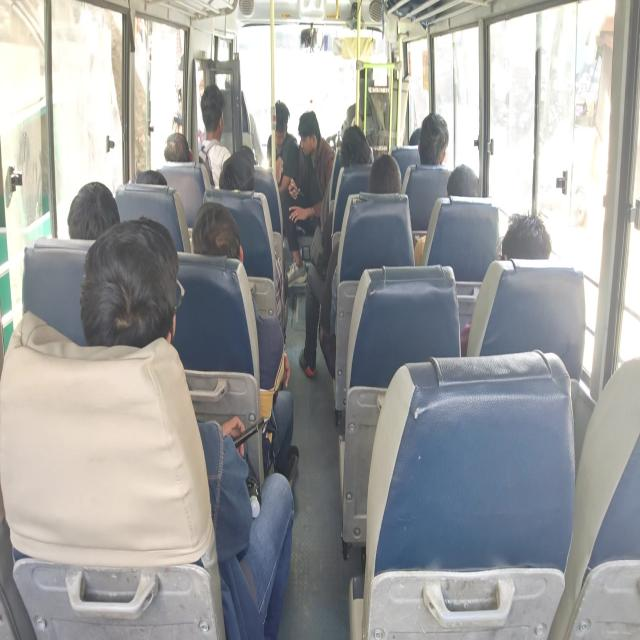person: (79, 216, 295, 638), (191, 200, 299, 488), (318, 153, 403, 378), (299, 124, 373, 377), (460, 211, 551, 355), (284, 110, 335, 286), (414, 163, 479, 265), (198, 84, 231, 188), (67, 181, 120, 240), (266, 99, 299, 193), (501, 211, 552, 260), (418, 112, 449, 165), (219, 150, 255, 192), (340, 124, 373, 167), (367, 153, 402, 193), (446, 164, 479, 197), (164, 132, 191, 162), (136, 169, 167, 185)
